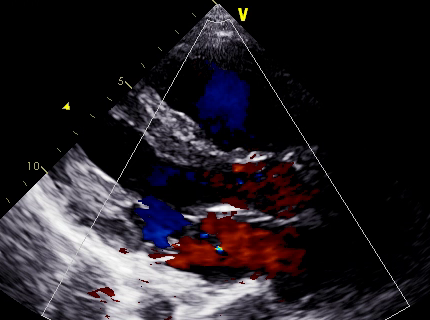MR: (143, 197, 208, 270)
